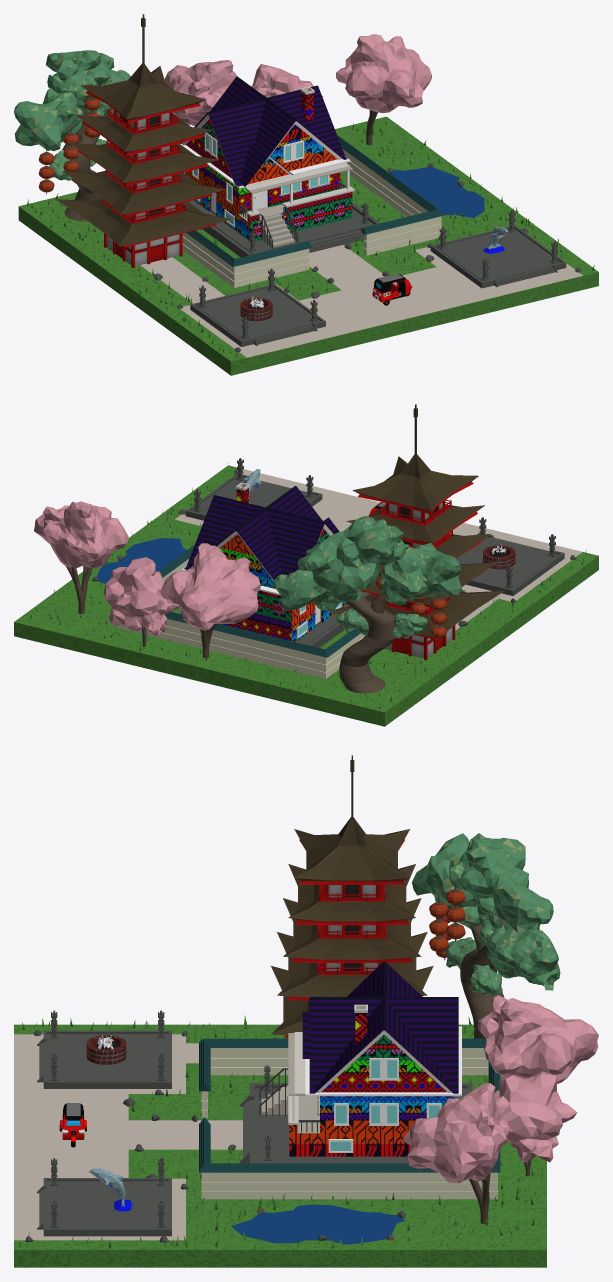
3 renders of one model, top to bottom at view 1: azimuth 30°, elevation 25°; view 2: azimuth 150°, elevation 25°; view 3: azimuth 270°, elevation 25°, orthographic. The views are drawn at different scales.
Visible parts, largest first — view 1: Cube.005, Cube.966, VEHICLES_TUC_TUC, OBJRANDOM_CAMPFIRE; view 2: Cube.005, Cube.966, OBJRANDOM_CAMPFIRE; view 3: Cube.005, Cube.966, OBJRANDOM_CAMPFIRE, VEHICLES_TUC_TUC, ANIMAL_DELFIN.
Boxes of the visible parts, box(x1,y1,x2,y2) form: Cube.005: box(14, 14, 598, 375); Cube.966: box(179, 76, 354, 248); VEHICLES_TUC_TUC: box(372, 273, 412, 305); OBJRANDOM_CAMPFIRE: box(240, 296, 272, 321); Cube.005: box(14, 404, 598, 726); Cube.966: box(181, 482, 347, 642); OBJRANDOM_CAMPFIRE: box(482, 544, 515, 569); Cube.005: box(14, 755, 598, 1267); Cube.966: box(259, 961, 461, 1156); OBJRANDOM_CAMPFIRE: box(86, 1033, 126, 1064); VEHICLES_TUC_TUC: box(59, 1103, 86, 1147); ANIMAL_DELFIN: box(89, 1168, 133, 1211).
Bounding box in the file's own units: 4528 × 2698 × 4389.
Materials: 45 (9 with a texture image).
